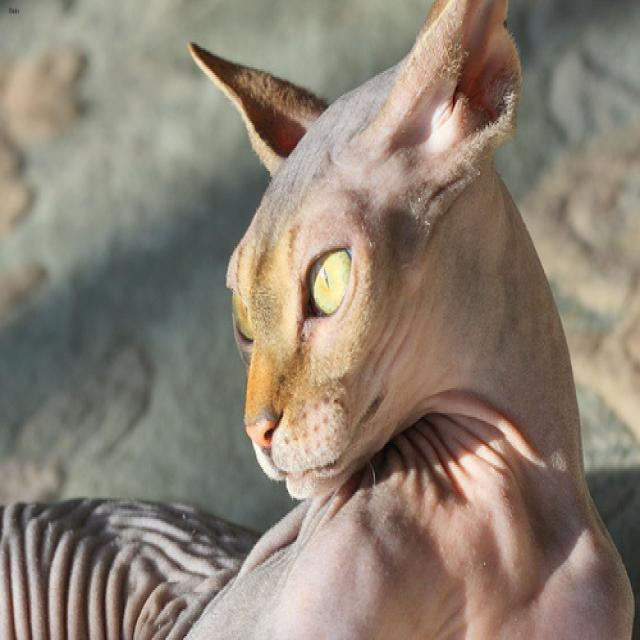Sphynx: (187, 0, 520, 500)
